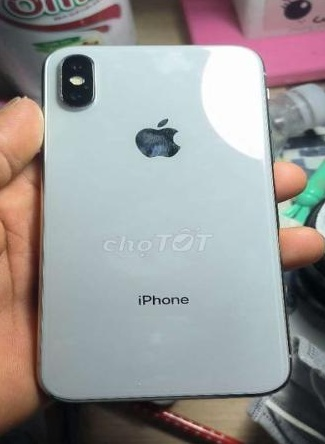scratch: (128, 378, 149, 392)
